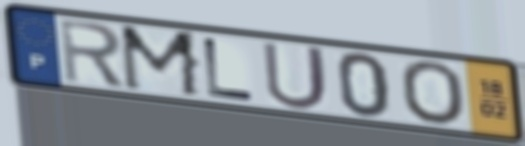0: (334, 50, 393, 120)
L: (201, 35, 258, 103)
M: (116, 23, 204, 101)
O: (397, 59, 468, 127)
R: (57, 16, 129, 90)
U: (259, 39, 332, 112)
